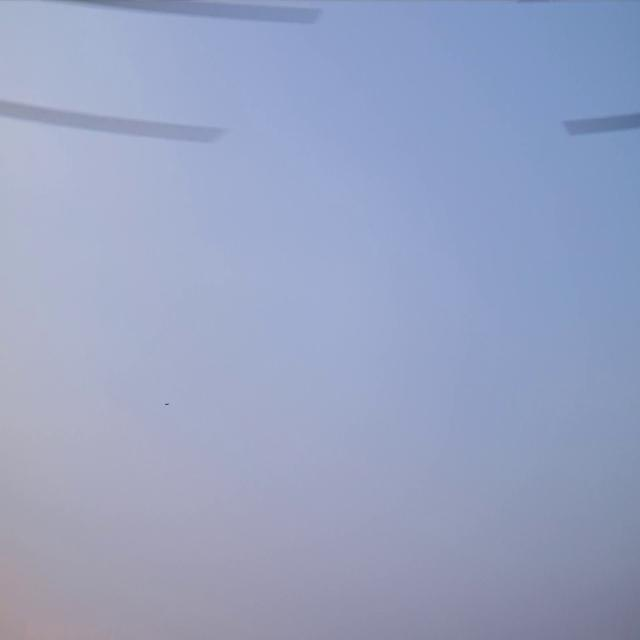UAV: (164, 401, 170, 406)
